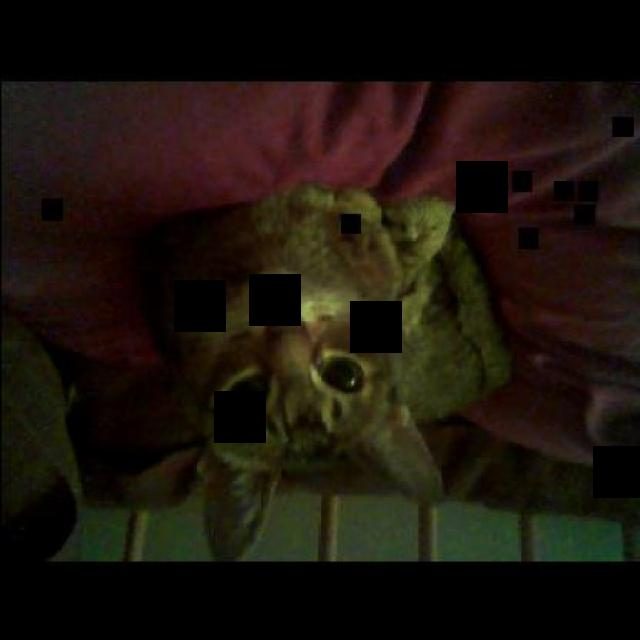unauthorized: (126, 178, 514, 558)
